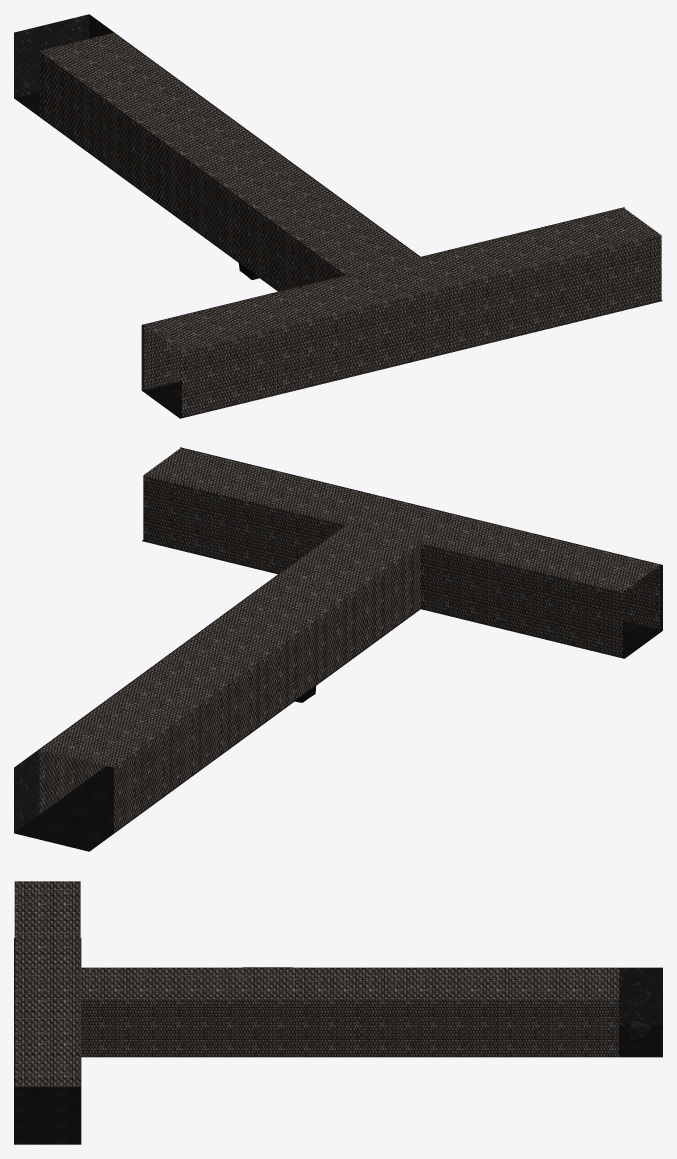
The model's file is HJ_TS_MKCJ_001.FBX.
3 renders of one model, top to bottom at view 1: azimuth 30°, elevation 25°; view 2: azimuth 150°, elevation 25°; view 3: azimuth 270°, elevation 25°, orthographic. The views are drawn at different scales.
Parts seen in each view (by area): view 1: Box001; view 2: Box001; view 3: Box001.
Part boxes in pixels (x1,y1,x2,y2): Box001: [14, 14, 662, 418]; Box001: [14, 447, 662, 851]; Box001: [14, 881, 662, 1144].
Bounding box in the file's own units: 38.42 × 6 × 50.97.
3 materials, 3 textured.
